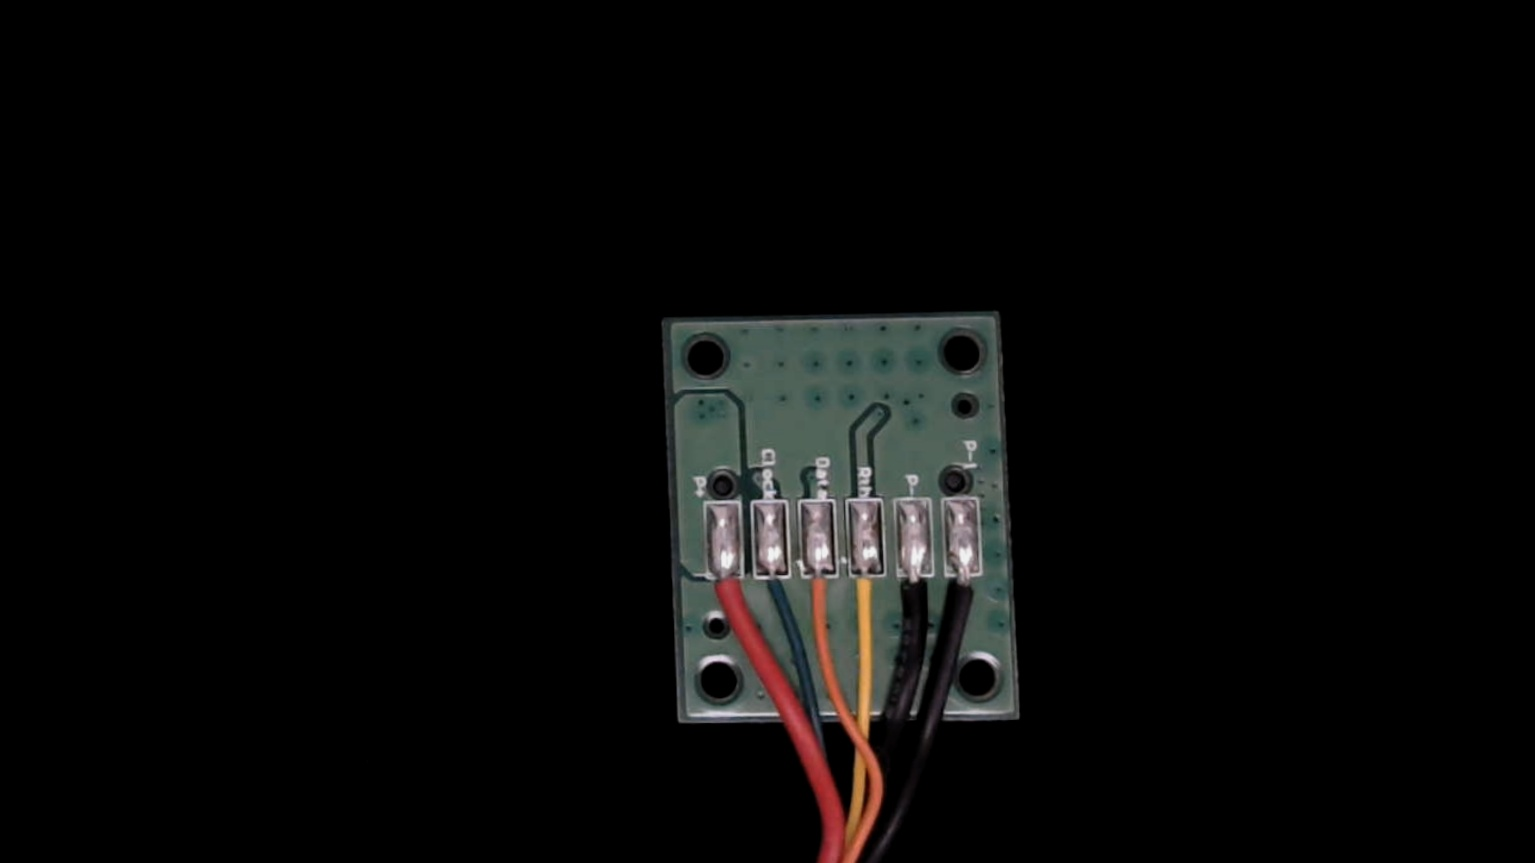Black: (892, 551, 936, 643)
Black1: (947, 552, 989, 635)
Green: (750, 558, 795, 621)
Orange: (797, 555, 838, 645)
Red: (703, 552, 746, 640)
Yellow: (843, 554, 888, 647)
